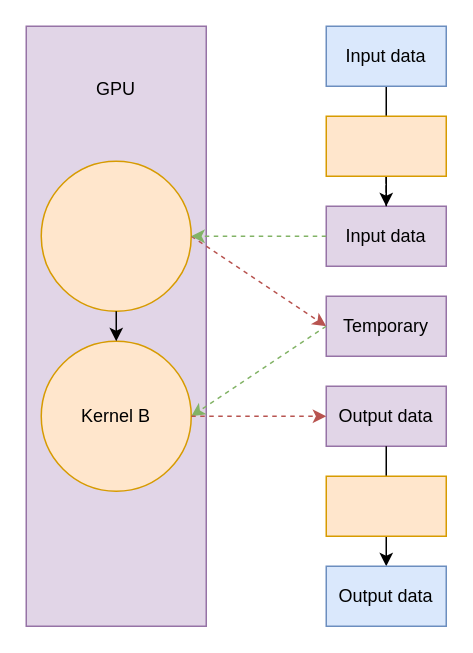
The diagram is 473 pixels wide and 653 high, and some of its shapes have lost their labels. The shapes that lost their labels are listed below. From the top down, each one's centre as x and y in pixels, then its label:
At pixel 385 145: "copy to GPU".
At pixel 115 235: "Kernel A".
At pixel 385 505: "copy back to host".
